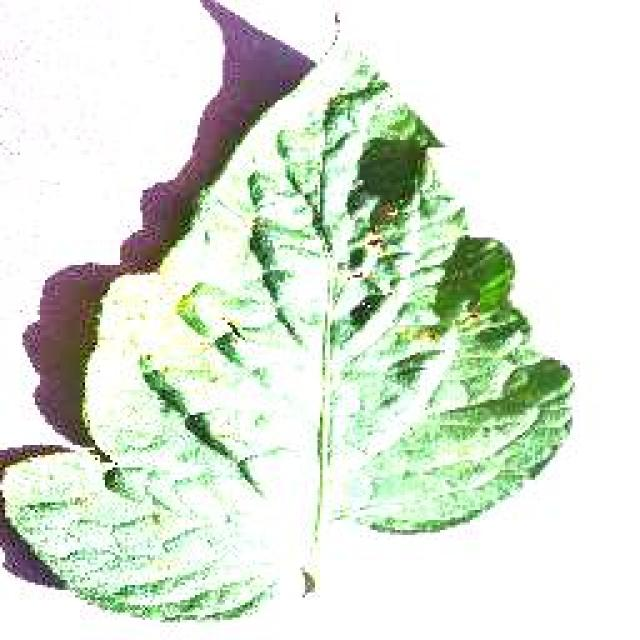Tomato___Target_Spot: (2, 42, 568, 618)
